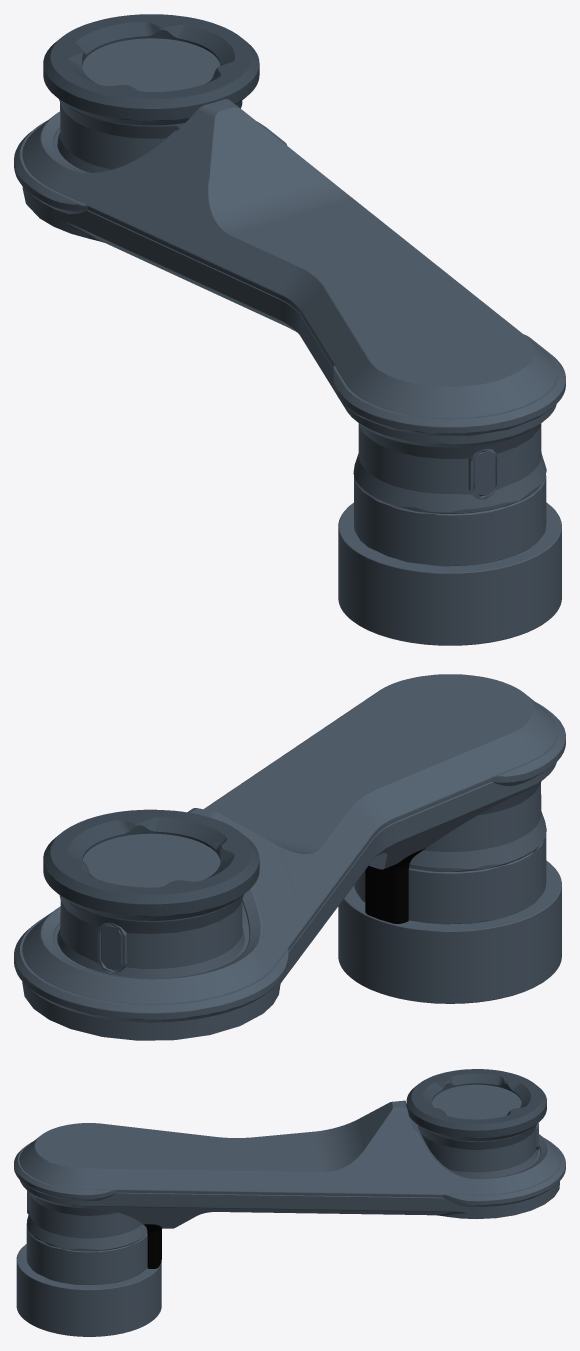
File: hl_hipy.obj
The picture shows the model from 3 angles, top to bottom: view 1: azimuth 30°, elevation 25°; view 2: azimuth 150°, elevation 25°; view 3: azimuth 270°, elevation 25°; orthographic projection. The views are drawn at different scales.
Visible parts, largest first — view 1: Mesh_mesh-a098dc63-da71-42a8-a5a5-8aa71d4ad79f, 倒角4, 圆角2, 切除-拉伸49, 圆角25, 移动面1, 切除-拉伸51, 切除-拉伸49.001; view 2: Mesh_mesh-a098dc63-da71-42a8-a5a5-8aa71d4ad79f, 倒角4, 圆角2, 移动面1, 切除-拉伸49.001, 圆角25, 切除-拉伸49, 切除-拉伸51, 凸台-拉伸1; view 3: Mesh_mesh-a098dc63-da71-42a8-a5a5-8aa71d4ad79f, 移动面1, 倒角4, 圆角2, 切除-拉伸49, 圆角25, 切除-拉伸49.001, 切除-拉伸51, 凸台-拉伸1.
Part boxes in pixels (x1,y1,x2,y2): Mesh_mesh-a098dc63-da71-42a8-a5a5-8aa71d4ad79f: (14,99,565,435); 倒角4: (338,502,561,645); 圆角2: (43,14,259,125); 切除-拉伸49: (353,423,546,513); 圆角25: (354,475,546,566); 移动面1: (22,187,556,447); 切除-拉伸51: (82,38,220,92); 切除-拉伸49.001: (57,99,242,172); Mesh_mesh-a098dc63-da71-42a8-a5a5-8aa71d4ad79f: (14,674,565,1022); 倒角4: (338,860,561,1003); 圆角2: (43,809,259,920); 移动面1: (22,762,556,1040); 切除-拉伸49.001: (57,894,244,978); 圆角25: (354,834,546,924); 切除-拉伸49: (409,781,546,871); 切除-拉伸51: (82,833,220,887); 凸台-拉伸1: (365,848,425,923); Mesh_mesh-a098dc63-da71-42a8-a5a5-8aa71d4ad79f: (14,1100,565,1206); 移动面1: (20,1180,559,1228); 倒角4: (16,1244,161,1336); 圆角2: (406,1069,546,1141); 切除-拉伸49: (26,1190,147,1251); 圆角25: (26,1226,147,1284); 切除-拉伸49.001: (418,1123,538,1178); 切除-拉伸51: (432,1084,521,1119); 凸台-拉伸1: (143,1224,162,1268).
Size of the model in its own units: 0.115 by 0.1494 by 0.356.
